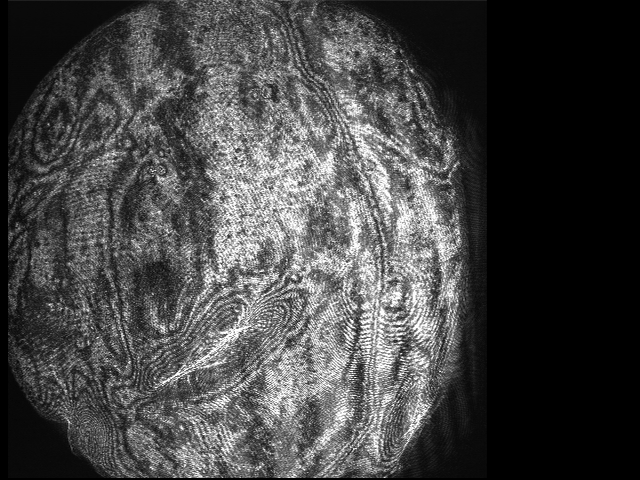plume: (139, 288, 292, 398)
